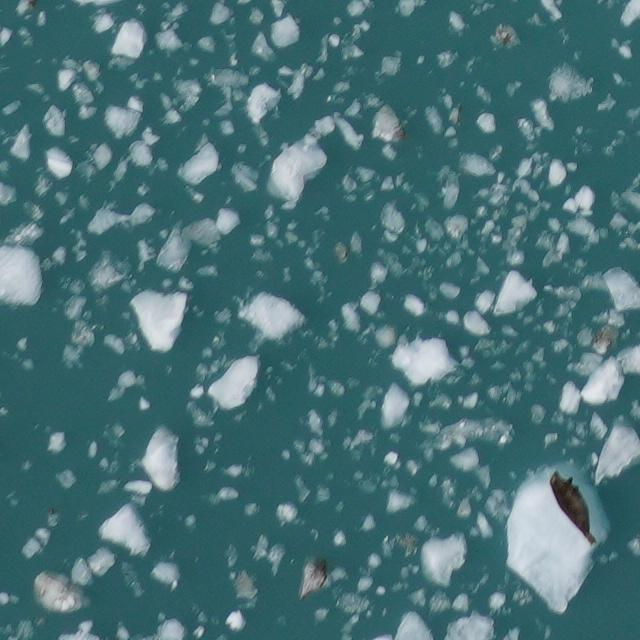seal: (543, 463, 604, 552)
